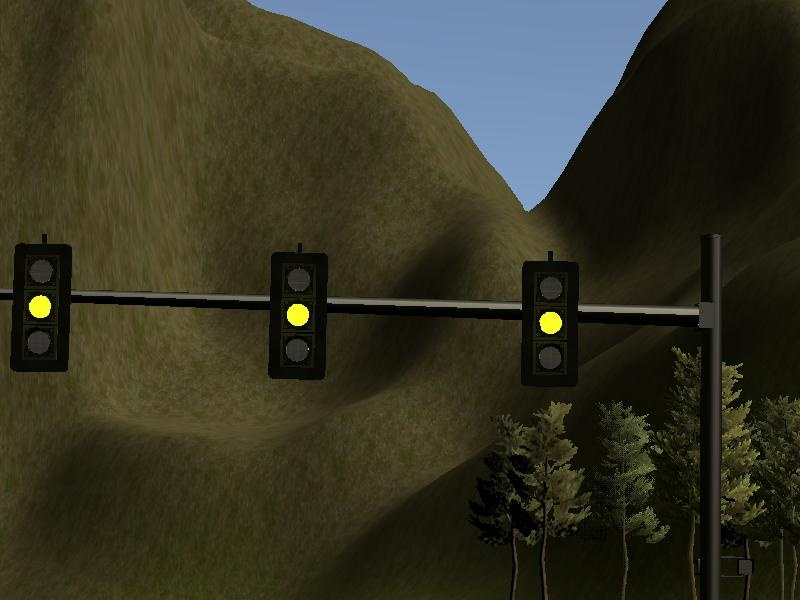YELLOW: (269, 249, 330, 384), (10, 237, 71, 372), (519, 259, 579, 384)
